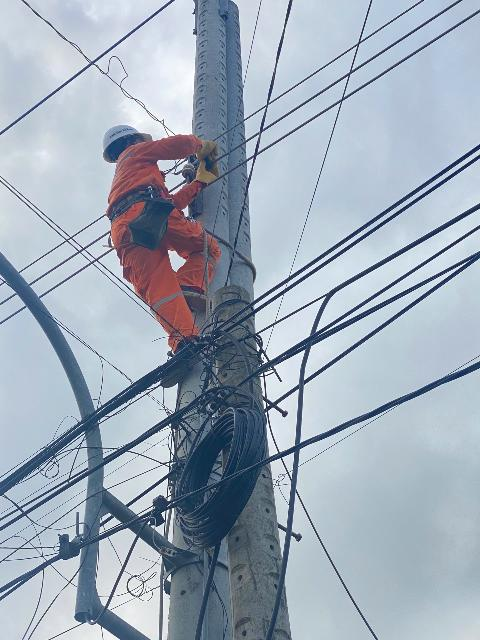gloves: (192, 155, 223, 186), (194, 133, 222, 163)
harness: (97, 182, 196, 227)
helmet: (92, 122, 157, 160)
shoes: (155, 337, 204, 389), (169, 274, 215, 311)
